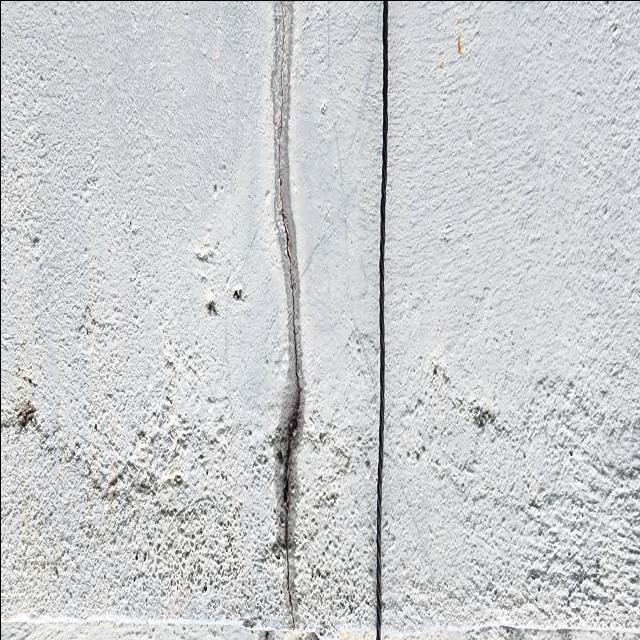SurfaceCrack: (220, 0, 352, 639), (329, 0, 436, 638)
